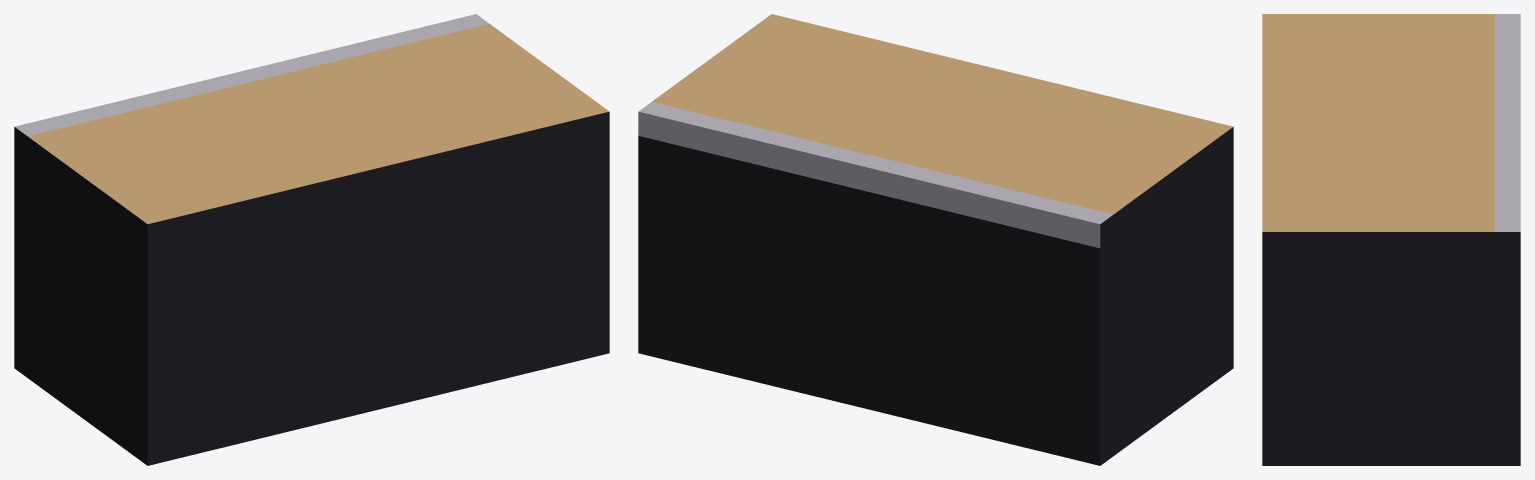
The model's file is ManPad_Half_5_OneGrind.fbx.
The picture shows the model from 3 angles, left to right: view 1: azimuth 30°, elevation 25°; view 2: azimuth 150°, elevation 25°; view 3: azimuth 270°, elevation 25°; orthographic projection. The views are drawn at different scales.
Parts seen in each view (by area): view 1: ManPad_Half_5_OneGrind; view 2: ManPad_Half_5_OneGrind; view 3: ManPad_Half_5_OneGrind.
Boxes of the visible parts, box(x1,y1,x2,y2) form: ManPad_Half_5_OneGrind: box(14, 14, 609, 465); ManPad_Half_5_OneGrind: box(638, 14, 1233, 465); ManPad_Half_5_OneGrind: box(1262, 14, 1520, 465).
Bounding box in the file's own units: 10 × 5 × 5.
